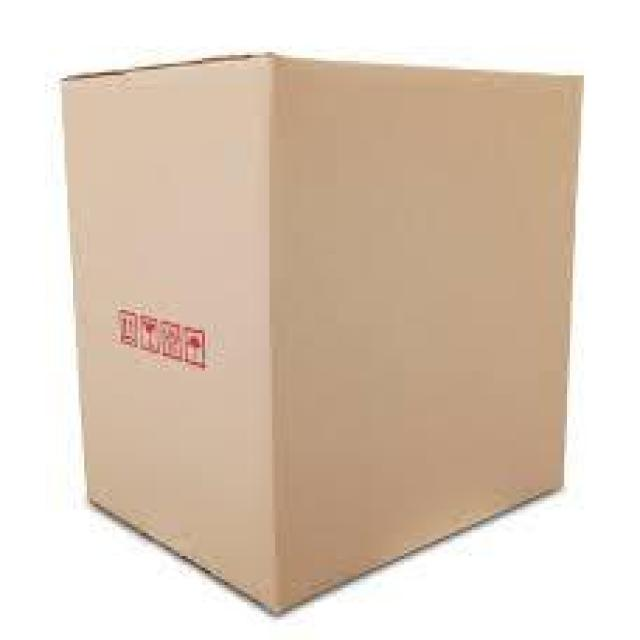cardboard: (64, 49, 589, 611)
